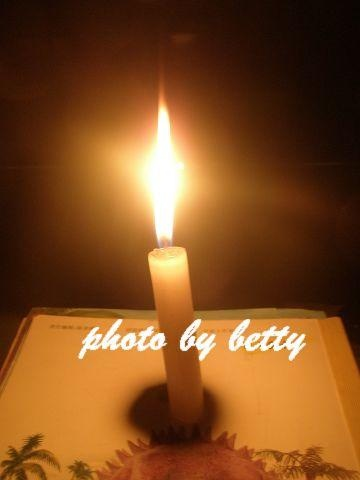fire: (135, 86, 189, 244)
